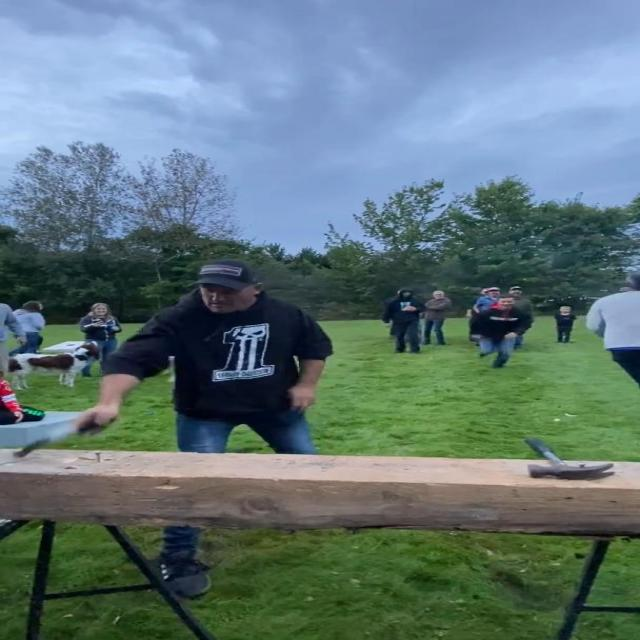hammer: (16, 410, 116, 458), (526, 436, 621, 482)
